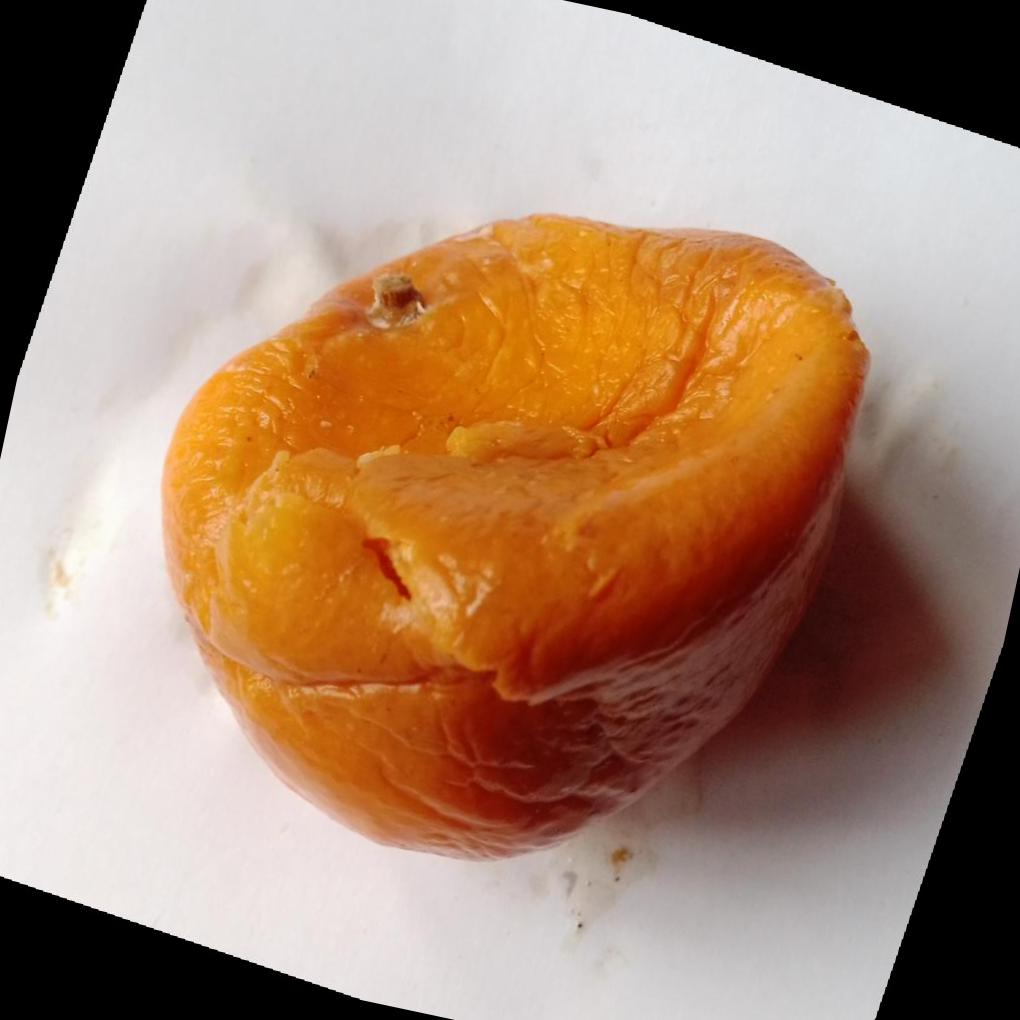FreshOrange: (157, 213, 870, 862)
